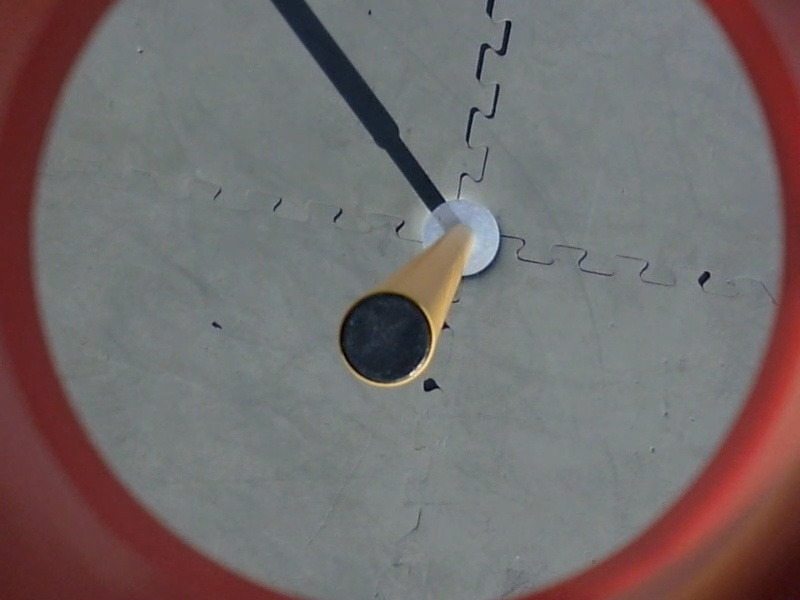tip: (336, 280, 438, 389)
